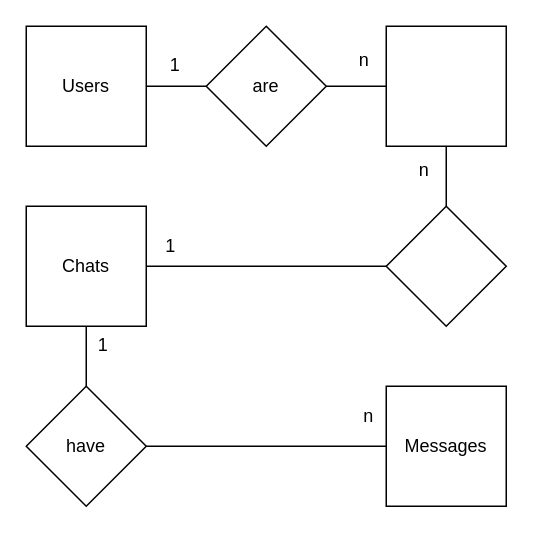
Some shapes in this 533 by 533 pixel diagram are drawn without their labels. The shapes that lost their labels are listed below. From the top down, each one's centre as x and y in pixels, then its label:
At pixel 445 85: "Participants".
At pixel 445 265: "participate".
